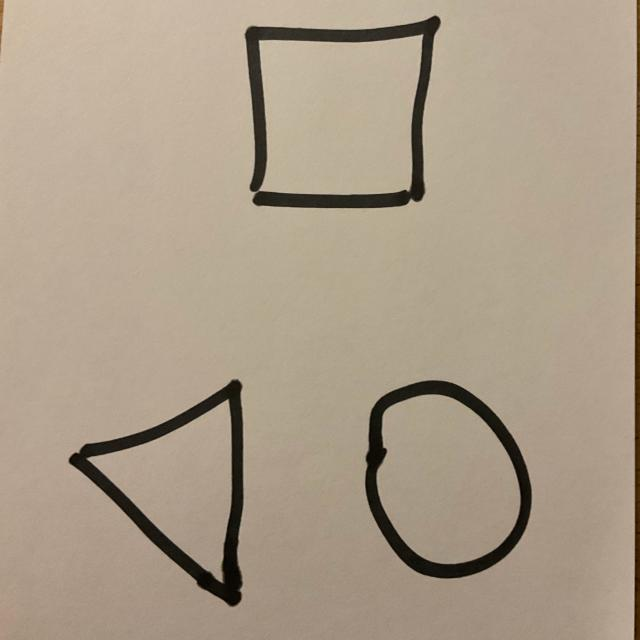Dreieck: (68, 381, 246, 609)
Kreis: (363, 382, 534, 582)
Quadrat: (243, 16, 442, 212)
